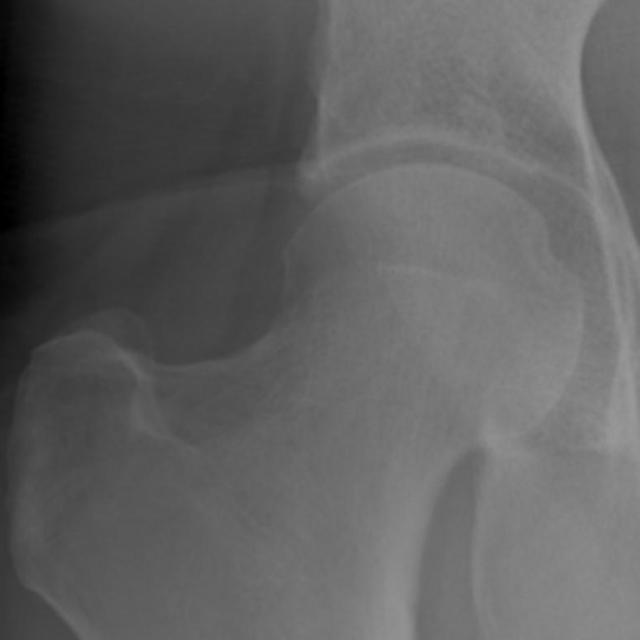Fitted_femural_head: (302, 166, 432, 302)
